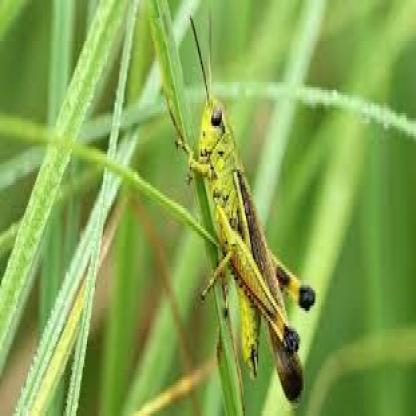grasshopper: (178, 16, 319, 408)
